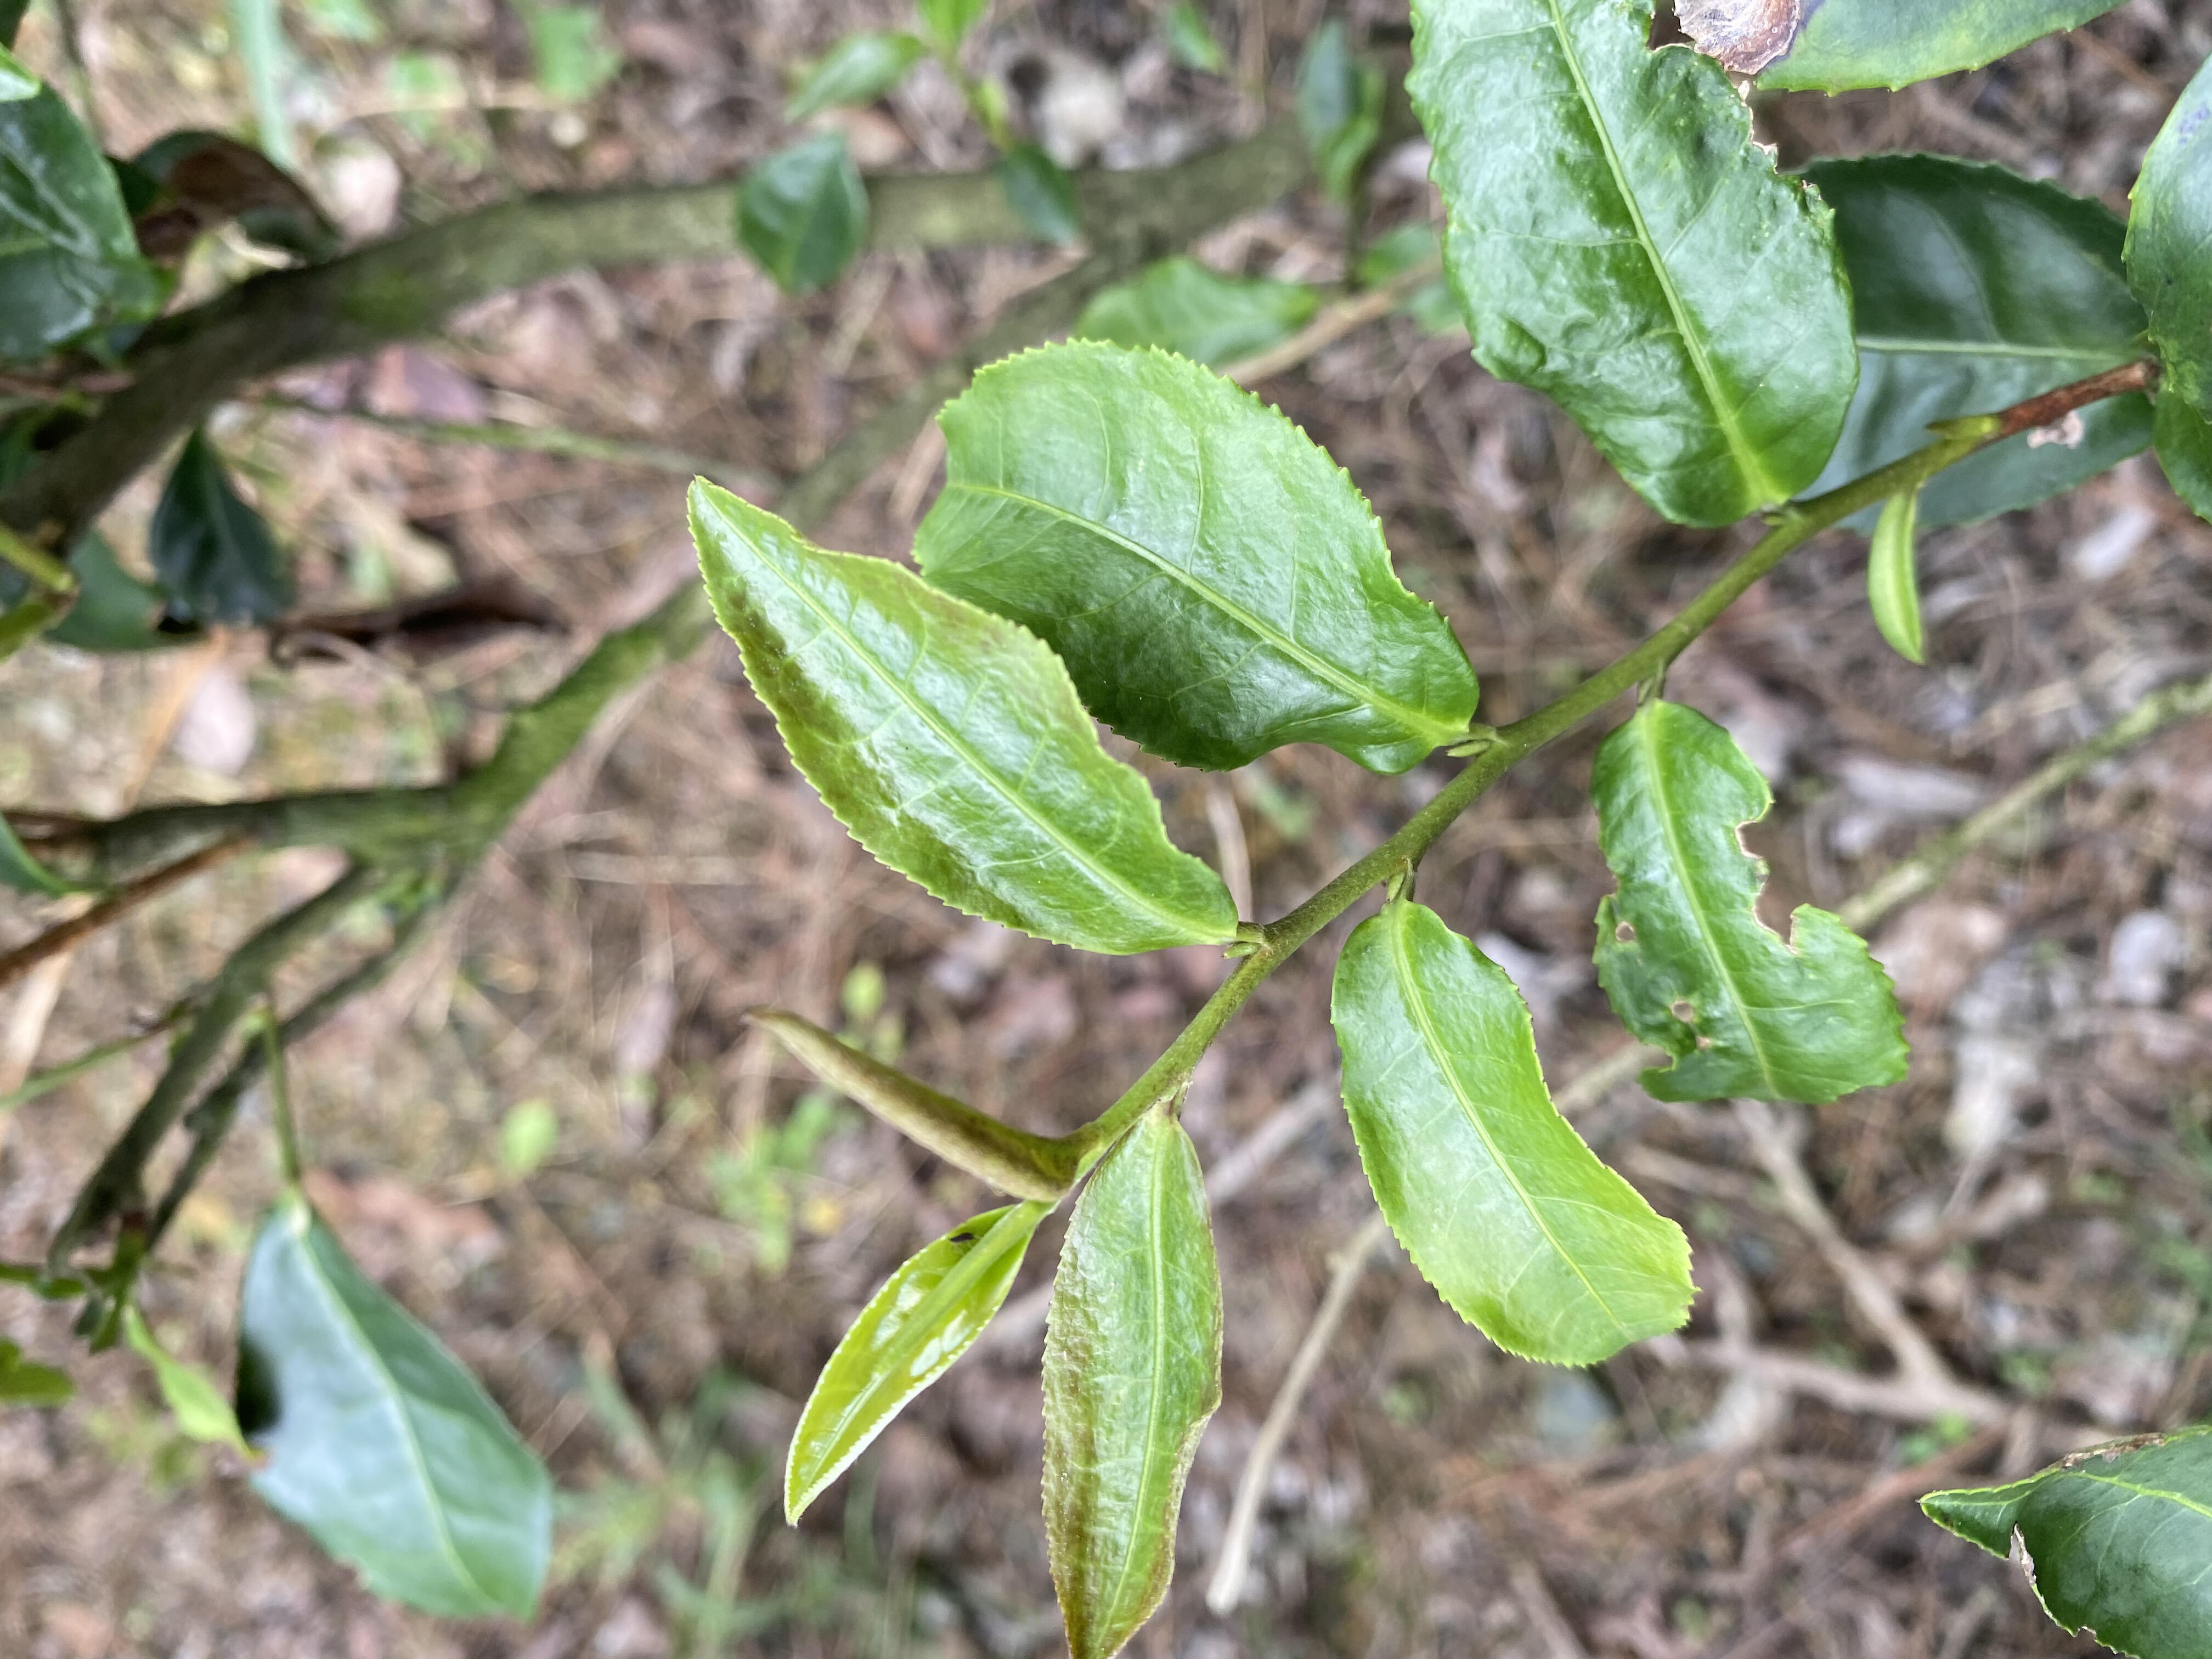chihuo_high: (1590, 697, 1918, 1110)
healthy: (679, 472, 1233, 955), (906, 336, 1480, 775), (1329, 896, 1698, 1373)
tanju_high: (1663, 2, 2127, 98)
tanju_low: (1042, 1100, 1226, 1657)
